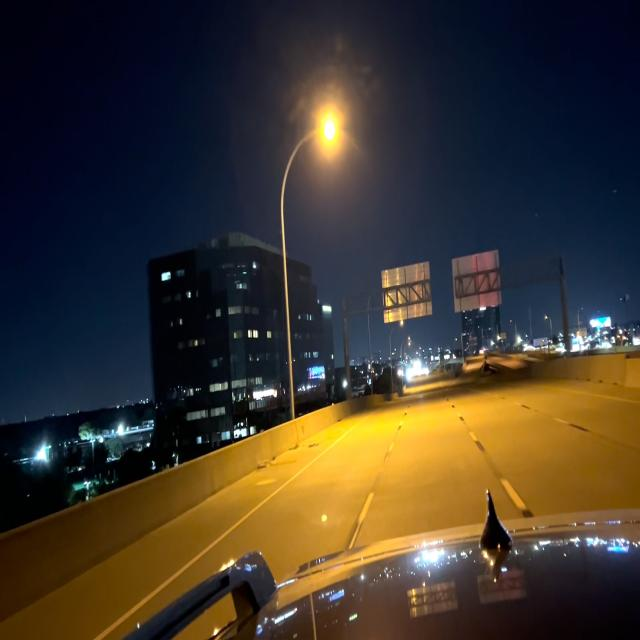back-of-sign: (382, 258, 434, 325), (451, 248, 503, 313)
